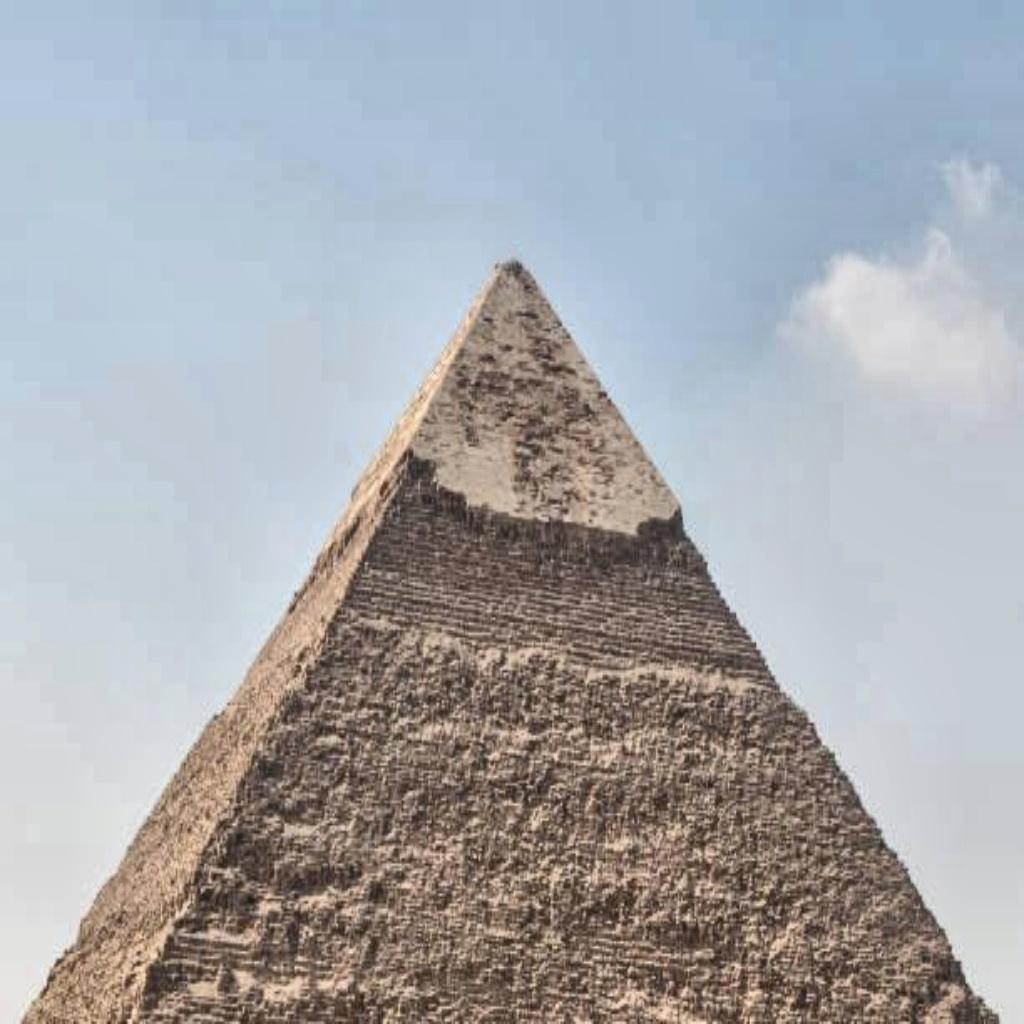Great Pyramids of Giza: (18, 251, 998, 1019)
